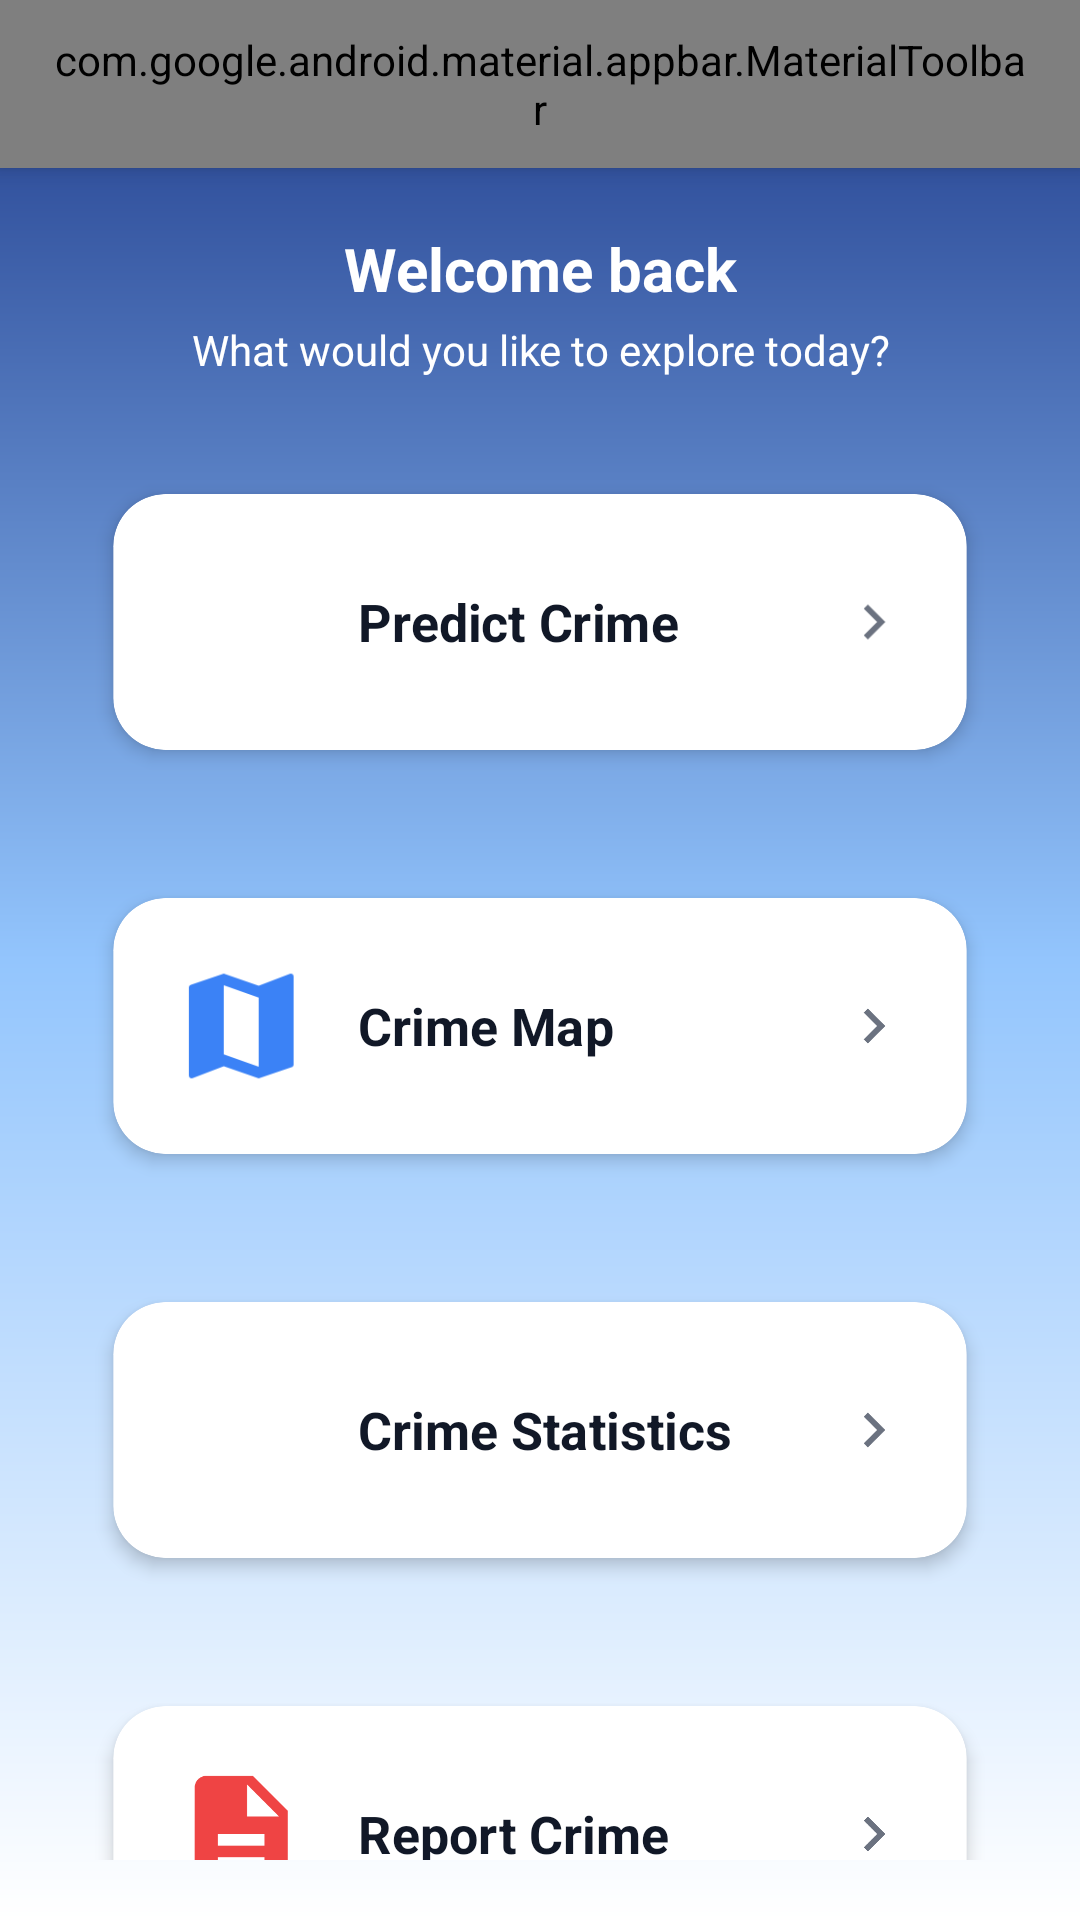

Icons on this 1080px×1920px Android screen, each with its box as (x1, y1, x2, y2):
arrow: (864, 604, 885, 640), (864, 1009, 885, 1043), (864, 1413, 885, 1447), (864, 1817, 885, 1851)
